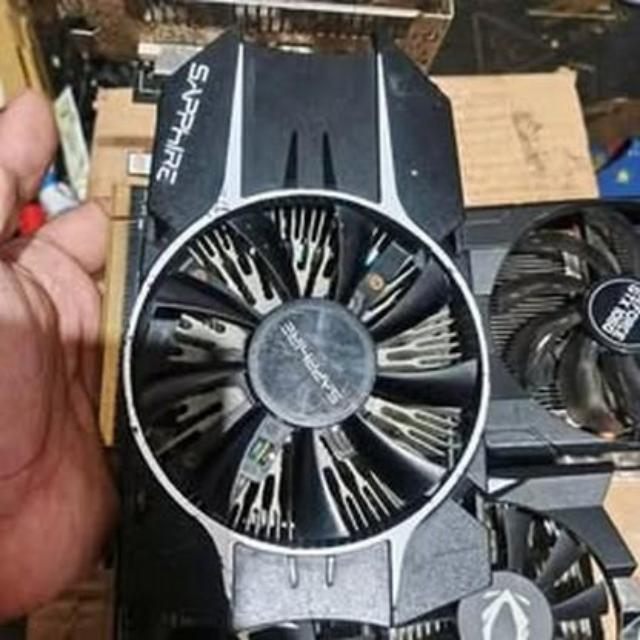GPU: (101, 31, 486, 640)
